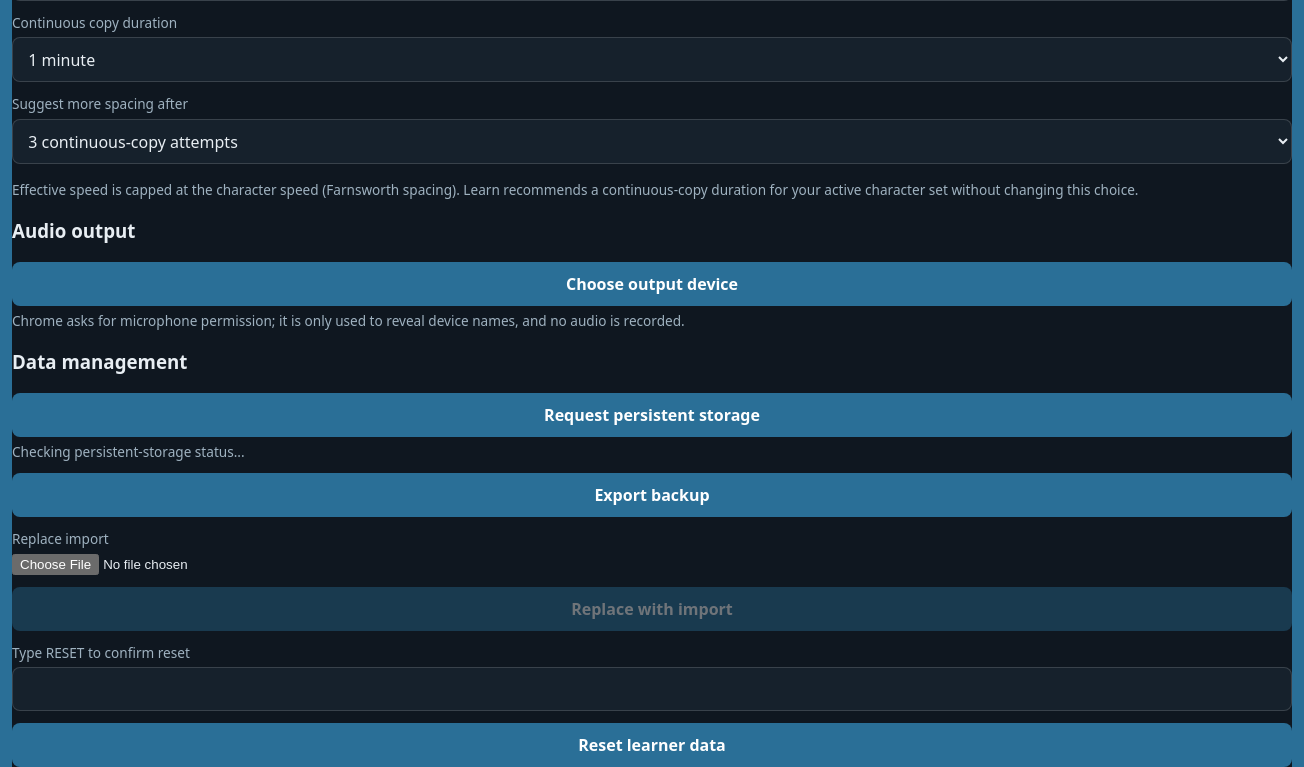
Test: SettingsScreen continuous copy › keeps a safe not-granted status when persistence is denied
(page scrolled)
Click the button "Request persistent storage" at (652, 415), box [12,393,1292,437]
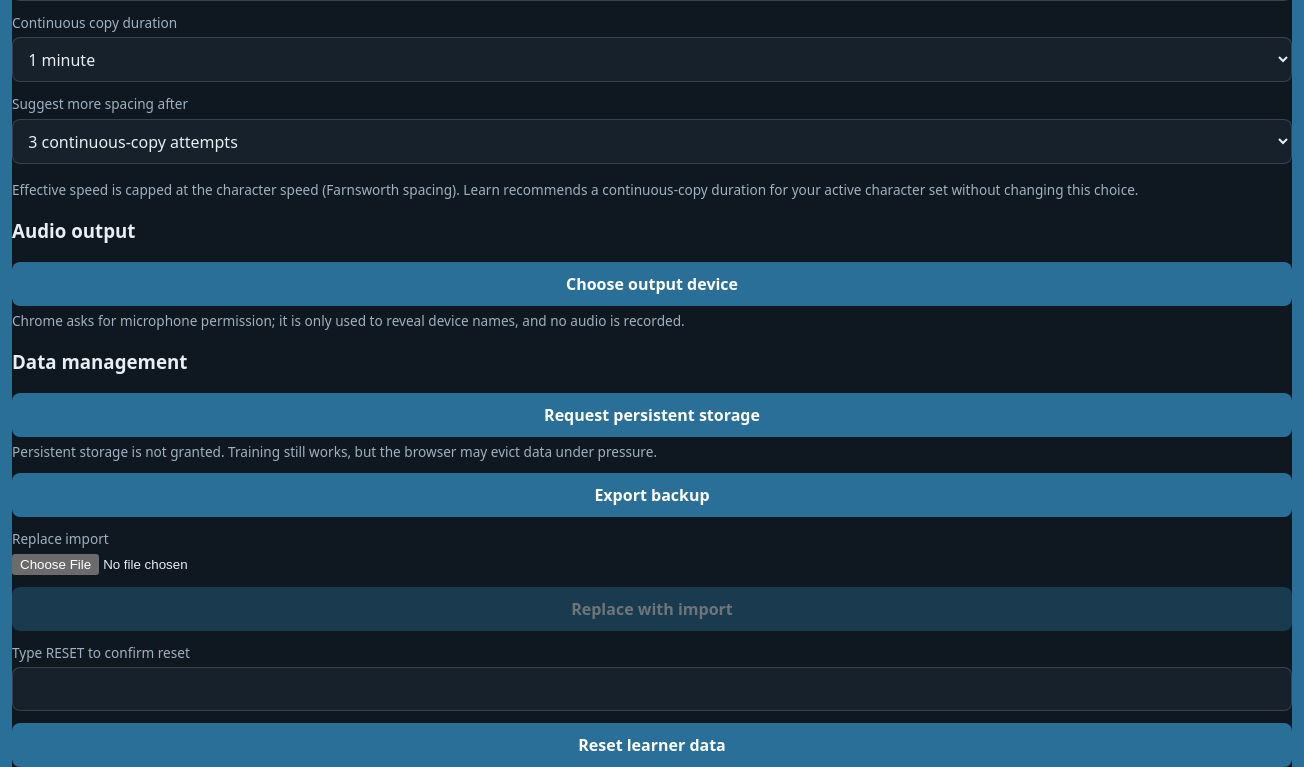
Now the text "Persistent storage is not granted" is shown, box [12,442,657,461]
